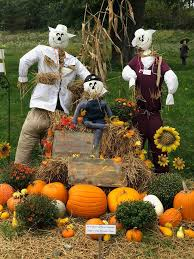person-like: (12, 22, 89, 163), (121, 27, 179, 146), (71, 72, 116, 149)
